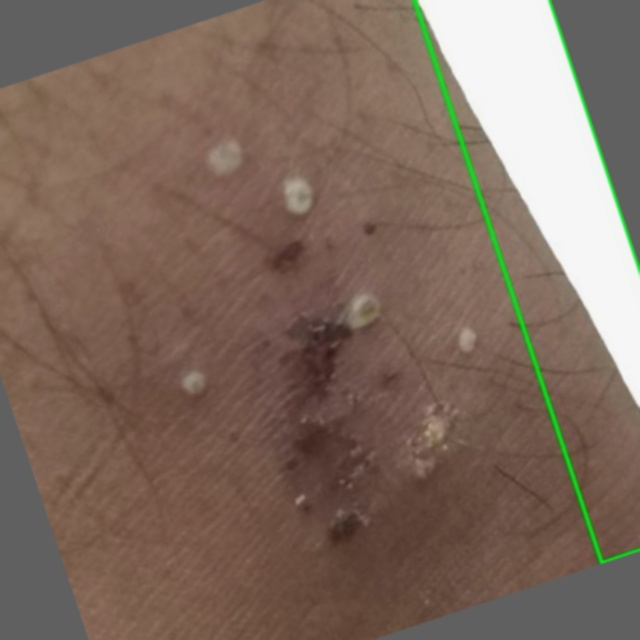Eczema: (414, 0, 639, 562)
